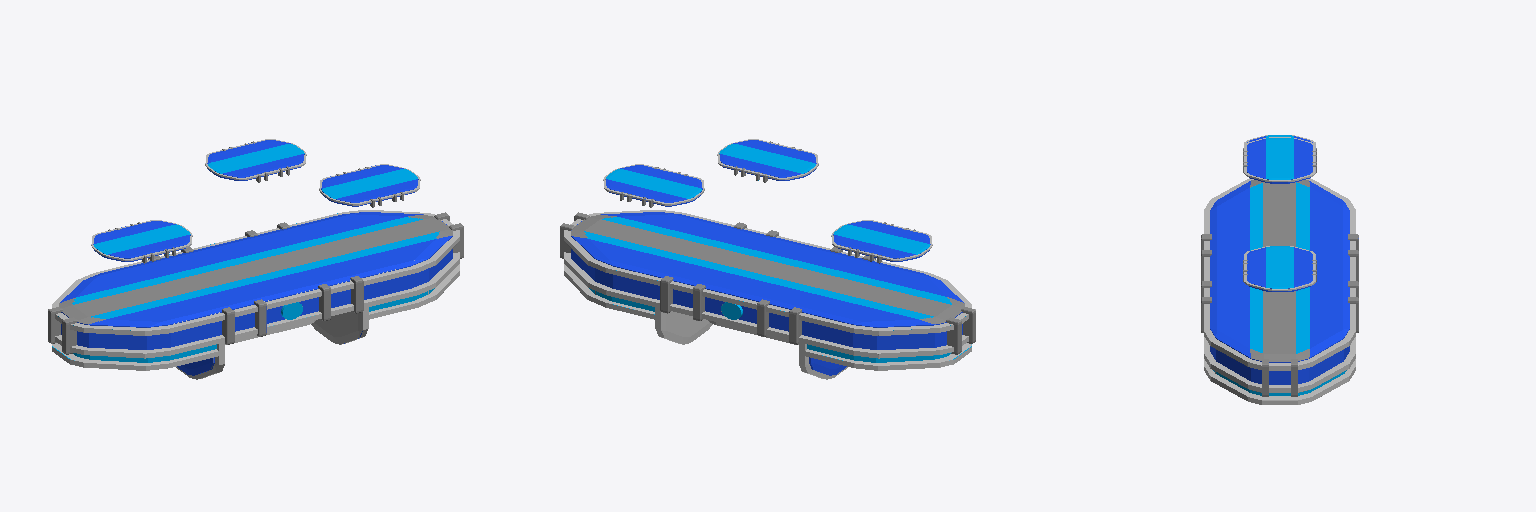
3 views of the same model, side by side, from view 1: azimuth 30°, elevation 25°; view 2: azimuth 150°, elevation 25°; view 3: azimuth 270°, elevation 25° (orthographic).
Parts seen in each view (by area): view 1: pisa_plat_central_Cube, pisa_plat_aire.002_Cube.039, pisa_plat_aire.001_Cube.038, pisa_plat_aire_Cube.036; view 2: pisa_plat_central_Cube, pisa_plat_aire.002_Cube.039, pisa_plat_aire.001_Cube.038, pisa_plat_aire_Cube.036; view 3: pisa_plat_central_Cube, pisa_plat_aire_Cube.036, pisa_plat_aire.002_Cube.039.
Boxes of the visible parts, x1,y1,x2,y2 form: pisa_plat_central_Cube: [48, 210, 463, 379]; pisa_plat_aire.002_Cube.039: [319, 164, 420, 207]; pisa_plat_aire.001_Cube.038: [91, 220, 192, 263]; pisa_plat_aire_Cube.036: [205, 139, 306, 182]; pisa_plat_central_Cube: [560, 210, 975, 379]; pisa_plat_aire.002_Cube.039: [603, 164, 704, 207]; pisa_plat_aire.001_Cube.038: [831, 220, 932, 263]; pisa_plat_aire_Cube.036: [717, 139, 818, 182]; pisa_plat_central_Cube: [1201, 178, 1358, 404]; pisa_plat_aire_Cube.036: [1243, 137, 1316, 183]; pisa_plat_aire.002_Cube.039: [1243, 246, 1316, 291].
Size of the model in its own units: 31.49 by 14.71 by 10.78.
4 materials, 2 textured.